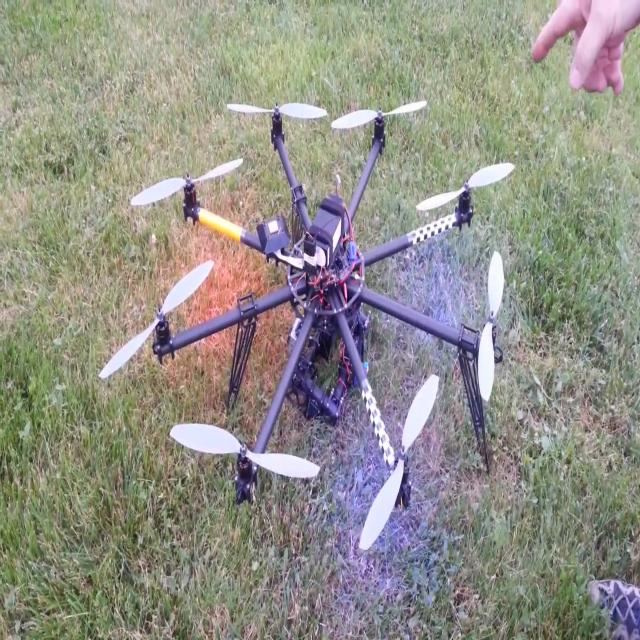drone: (81, 86, 554, 564)
